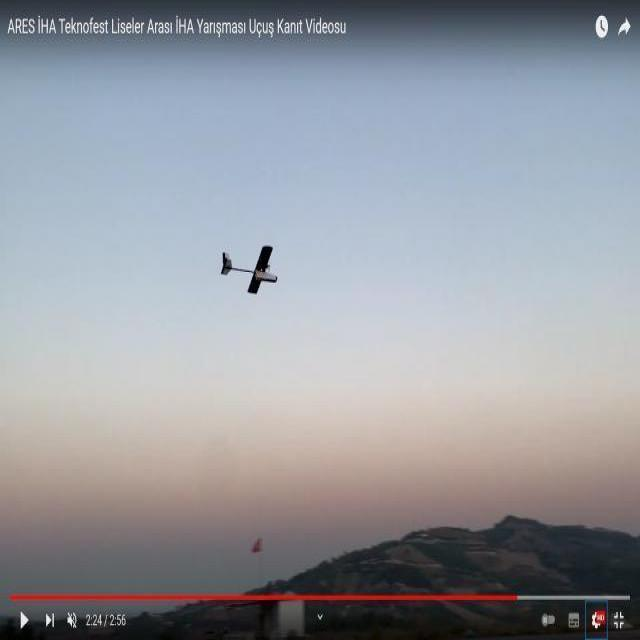iha: (240, 259, 256, 264)
